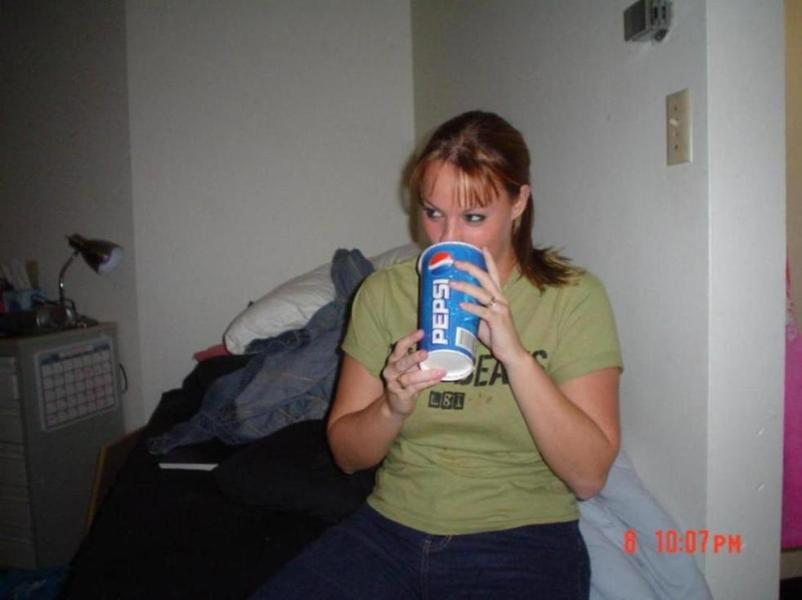person: (235, 110, 624, 600)
